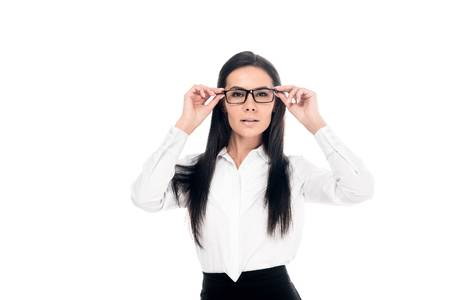F_shirt: (129, 123, 372, 281)
